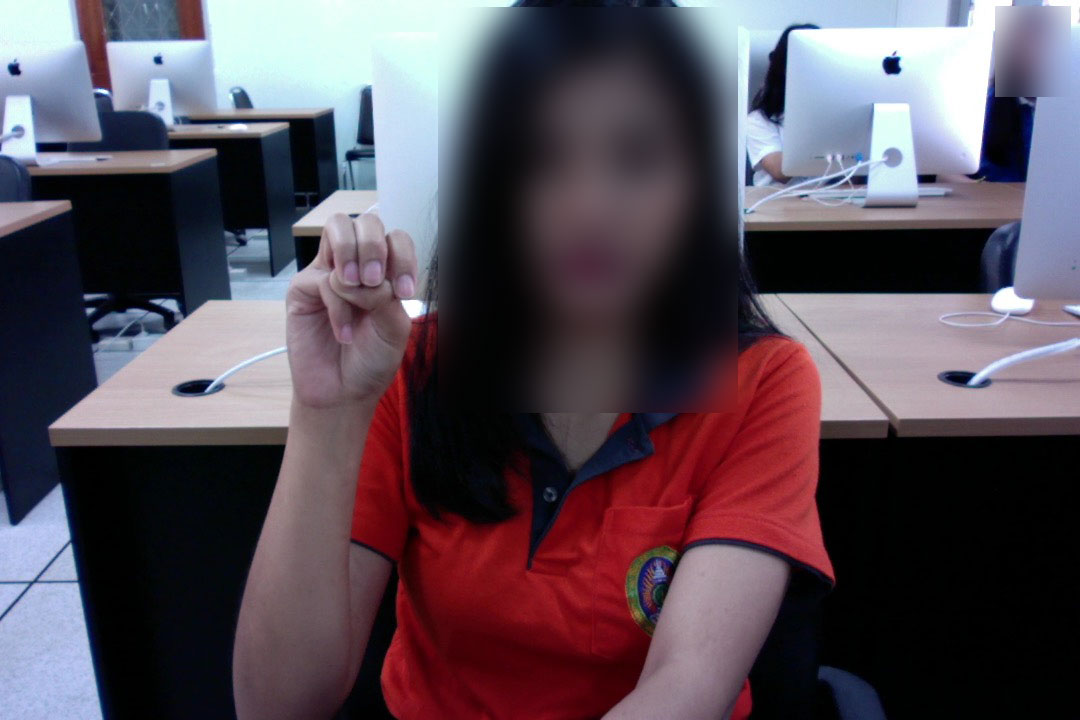mor: (277, 209, 424, 425)
